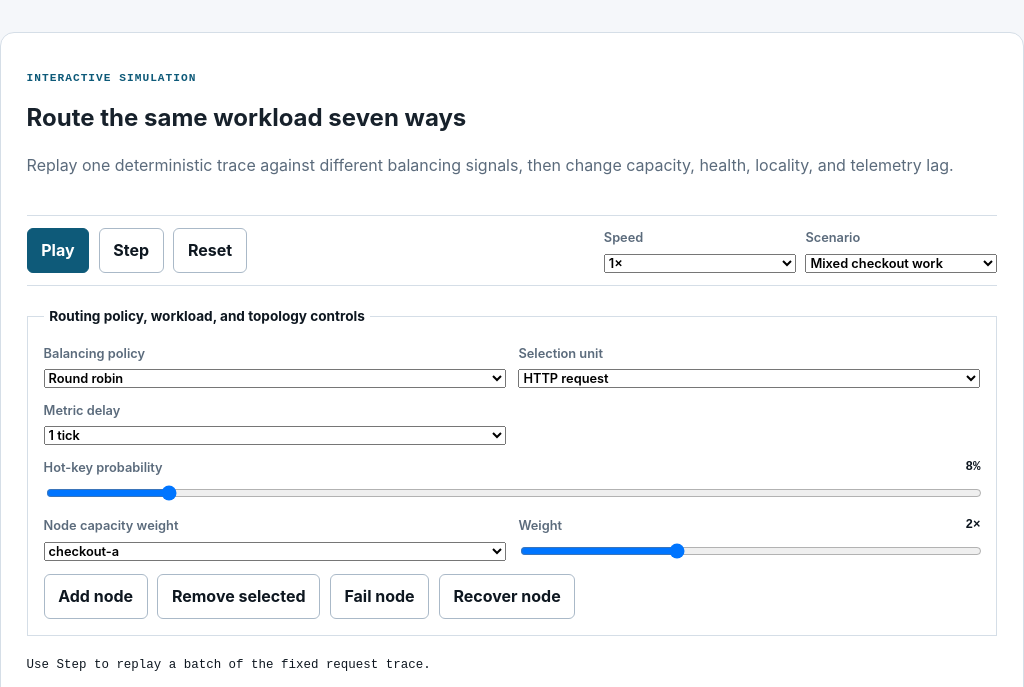
Test case: load-balancing simulation component › switches policy and scenario, then exposes failure and recovery in text
This screenshot has width=1024, height=687.
Select "Key hash" in the dropdown labelled "Balancing policy" at (275, 379), box [44,369,506,388]
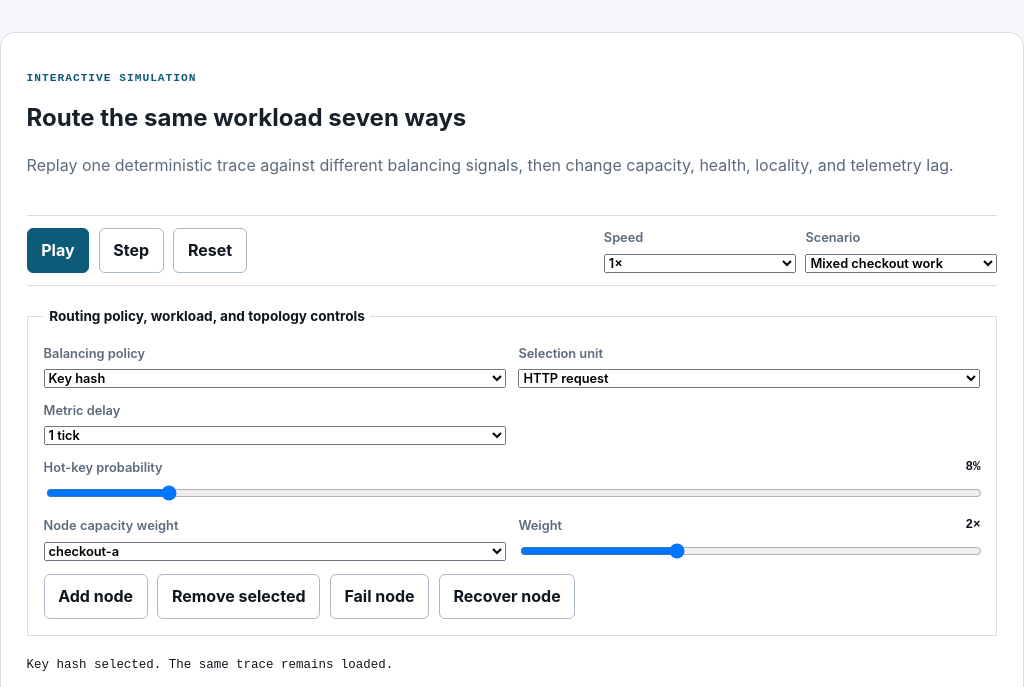
Select "Celebrity cache key" in the dropdown labelled "Scenario" at (901, 263), box [805,254,997,273]
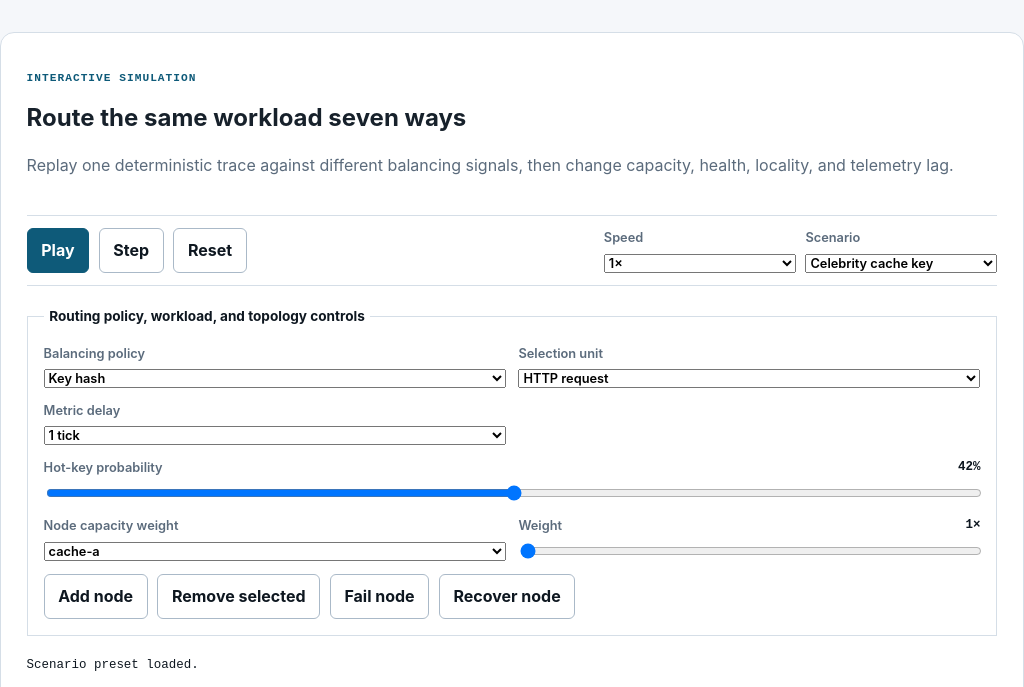
Click the button "Fail node".
click(380, 597)  # box [330,574,429,619]
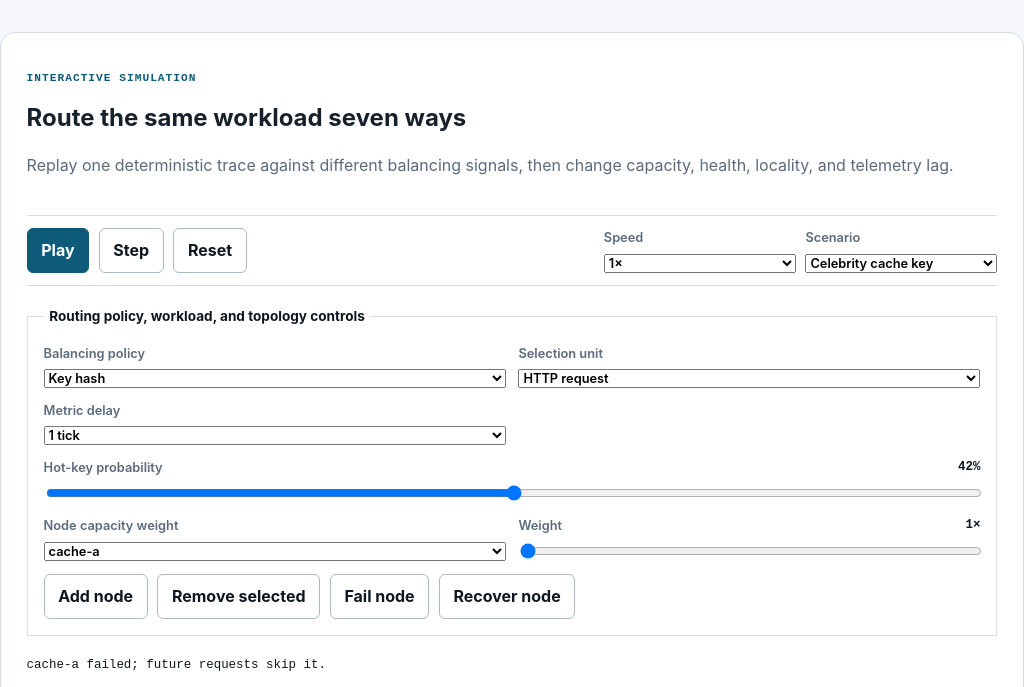
Click the button "Recover node".
click(507, 597)  # box [439,574,575,619]
(page scrolled)
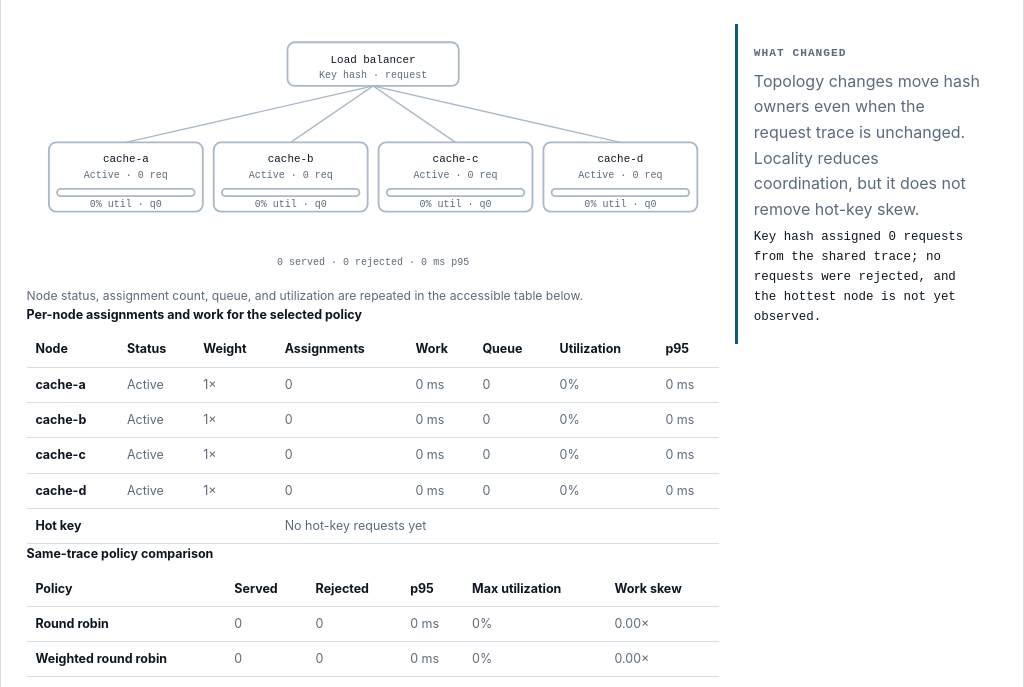
Check: the 1st text "Active" is shown, box [118,367,194,402]
